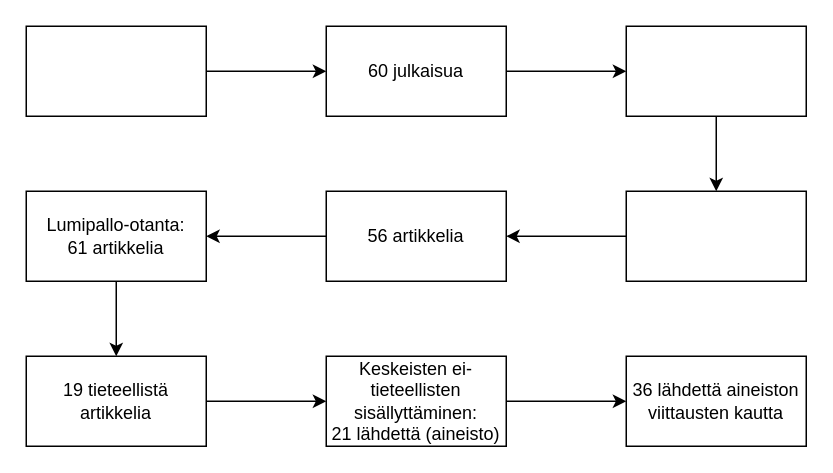
This 833x473 diagram has some shape labels left out. Here are the shapes that lost their labels. From the top down, the box of each, then its label:
(25, 25, 206, 116): 108 julkaisua
(625, 25, 806, 116): 31 julkaisua
(625, 190, 806, 281): 176 artikkelia
